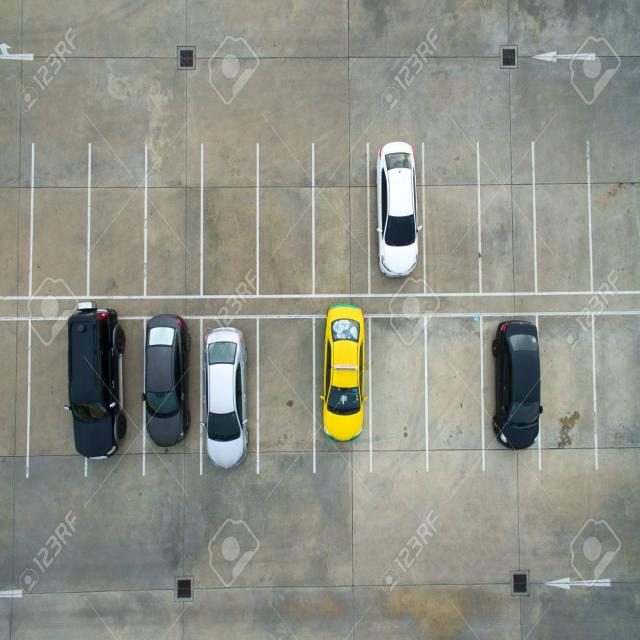libre: (0, 135, 374, 302), (428, 133, 640, 296), (375, 320, 491, 485), (554, 327, 640, 466), (0, 317, 74, 460), (262, 316, 318, 482)
ocupado: (72, 299, 266, 490), (321, 306, 369, 472), (494, 319, 545, 468), (382, 133, 424, 299)
